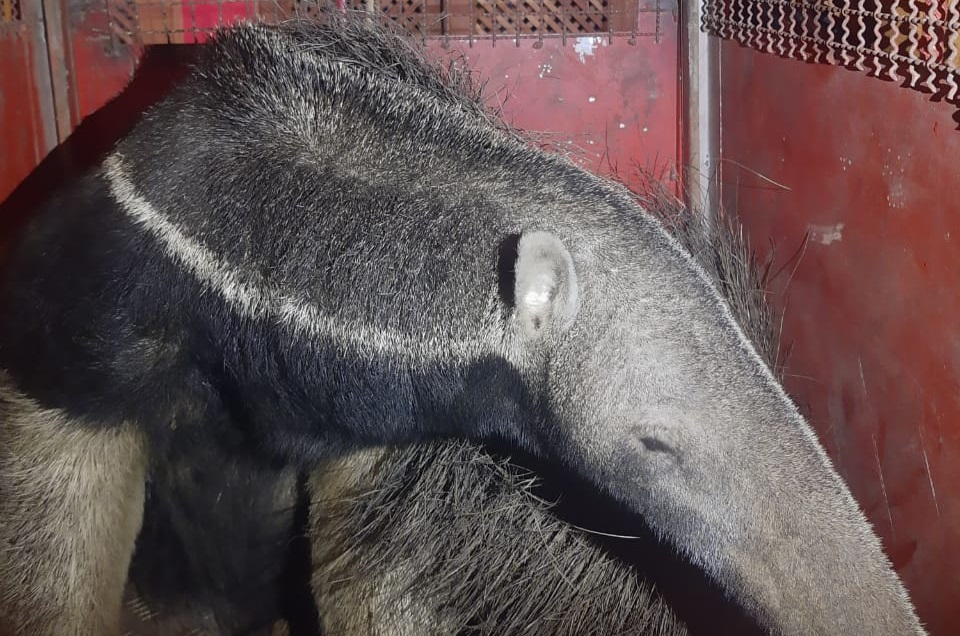TamanduaBandeira: (11, 14, 927, 632)
